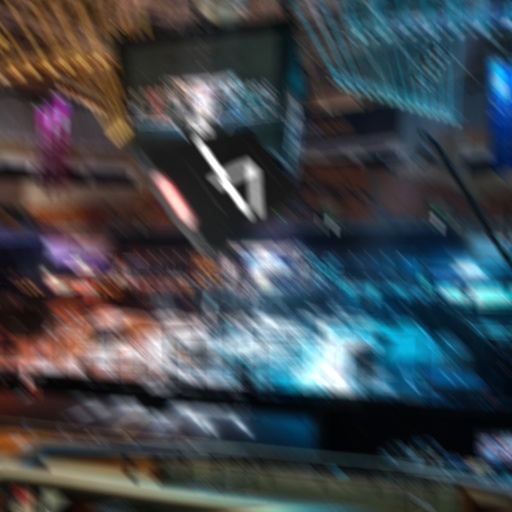red: (137, 125, 298, 262)
